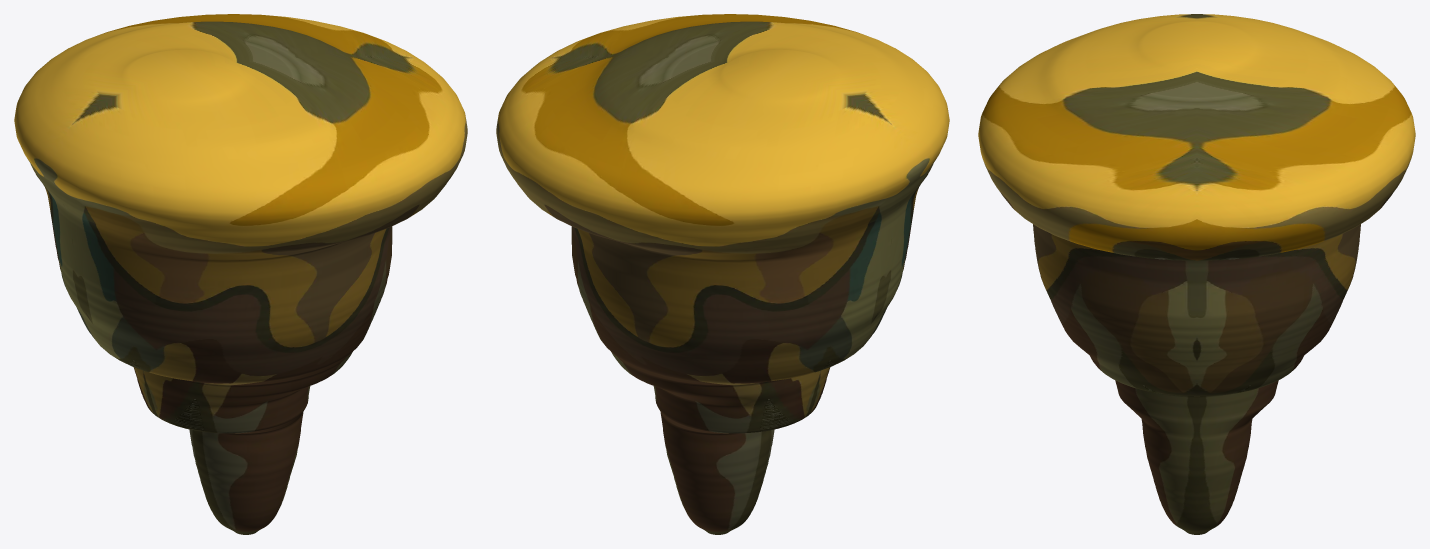
The model's file is floating_crag.glb.
3 views of the same model, side by side, from view 1: azimuth 30°, elevation 25°; view 2: azimuth 150°, elevation 25°; view 3: azimuth 270°, elevation 25° (orthographic). The views are drawn at different scales.
Visible parts, largest first — view 1: floating_crag; view 2: floating_crag; view 3: floating_crag.
Part boxes in pixels (box(x1,y1,x2,y2)): floating_crag: box(14, 14, 467, 534); floating_crag: box(496, 14, 949, 534); floating_crag: box(978, 14, 1415, 534).
Size of the model in its own units: 1 by 1.15 by 0.9955.
1 material, 1 textured.
